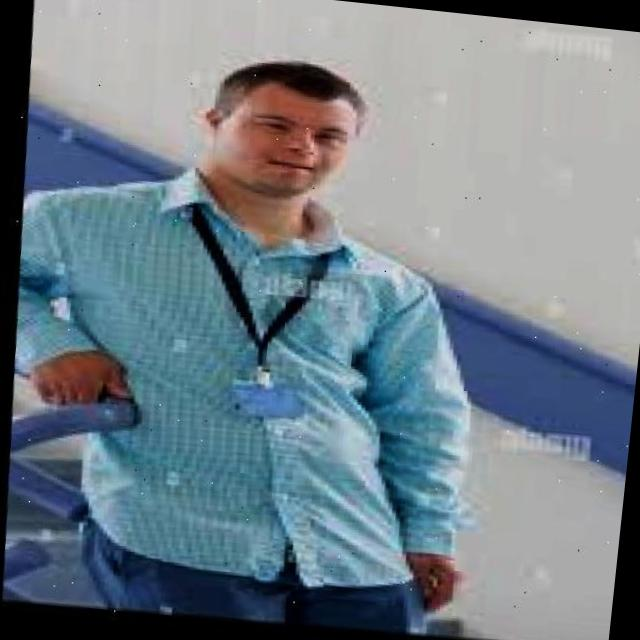id_card: (170, 177, 338, 422)
